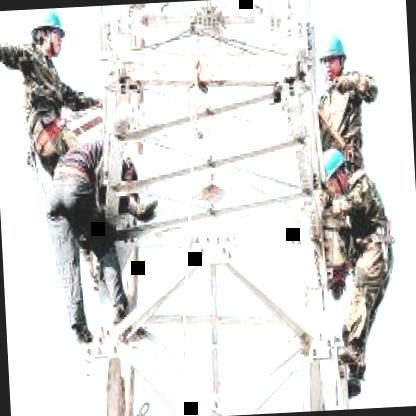helmet: (28, 7, 71, 64), (317, 26, 349, 85), (319, 144, 351, 200)
